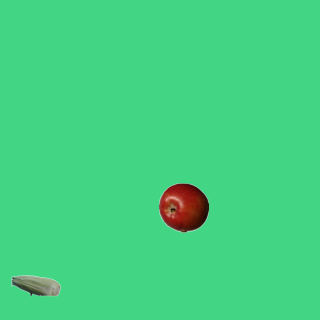Apple Braeburn: (158, 182, 208, 232)
Corn Husk: (10, 260, 60, 310)
